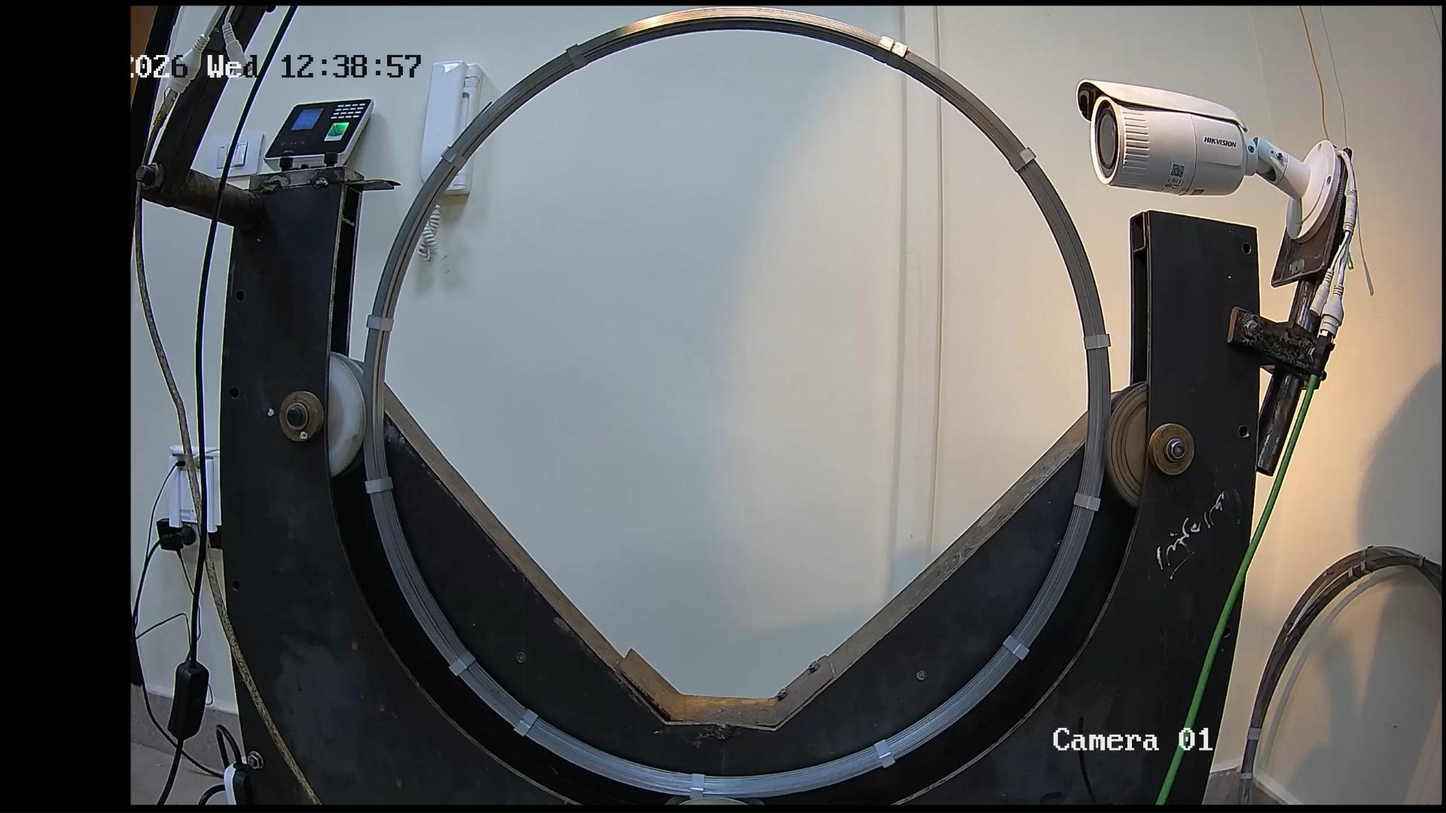Clamp: (1006, 148, 1034, 172), (440, 147, 467, 169), (514, 710, 537, 735), (1004, 635, 1027, 660), (874, 739, 895, 766), (886, 42, 907, 69), (450, 651, 474, 674), (873, 37, 893, 62), (566, 45, 587, 68), (1075, 492, 1100, 511), (365, 477, 392, 493), (1084, 334, 1109, 351), (367, 315, 391, 330), (690, 774, 703, 799)
